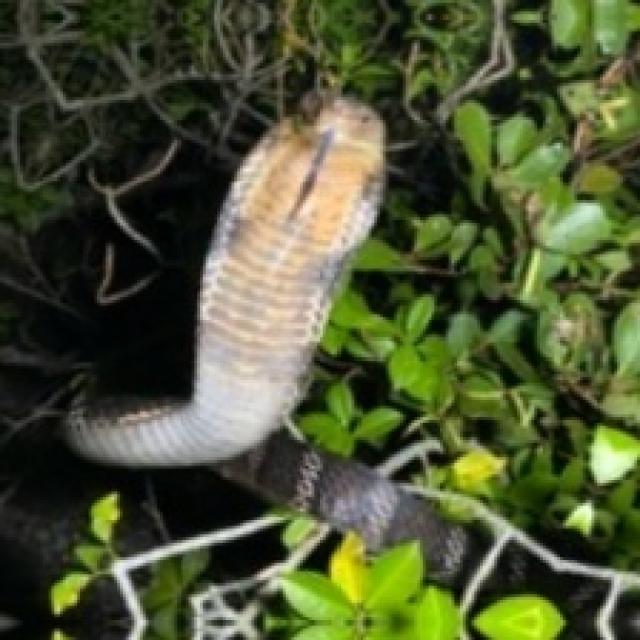king cobra: (63, 91, 466, 571)
